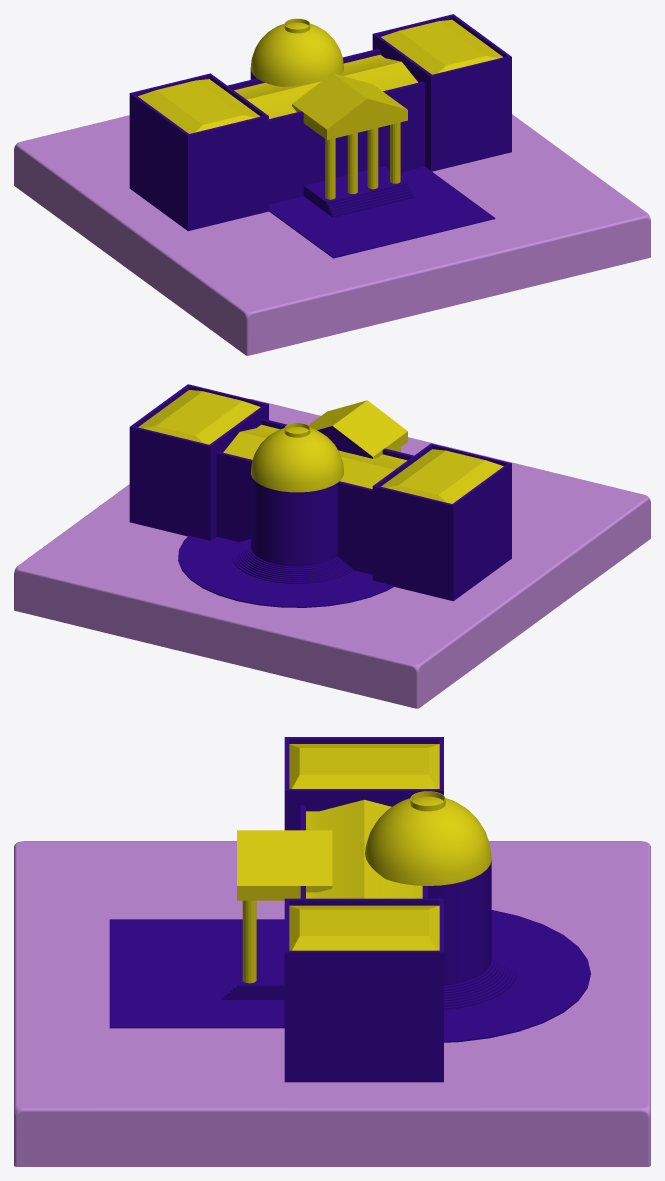
Rendered from t_palace.glb.
The picture shows the model from 3 angles, top to bottom: view 1: azimuth 30°, elevation 25°; view 2: azimuth 150°, elevation 25°; view 3: azimuth 270°, elevation 25°; orthographic projection. The views are drawn at different scales.
Parts seen in each view (by area): view 1: t_Palace; view 2: t_Palace; view 3: t_Palace.
Boxes of the visible parts, x1,y1,x2,y2 form: t_Palace: [14, 14, 650, 355]; t_Palace: [14, 384, 650, 708]; t_Palace: [14, 737, 650, 1166].
Bounding box in the file's own units: 10 × 4.05 × 10.
